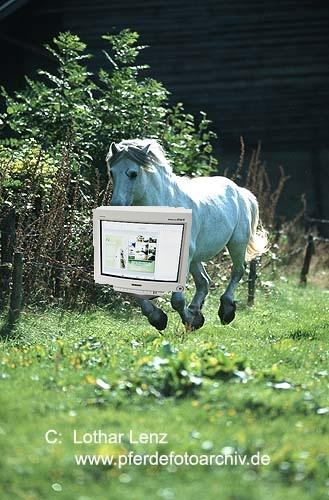tampered: (93, 207, 192, 300)
